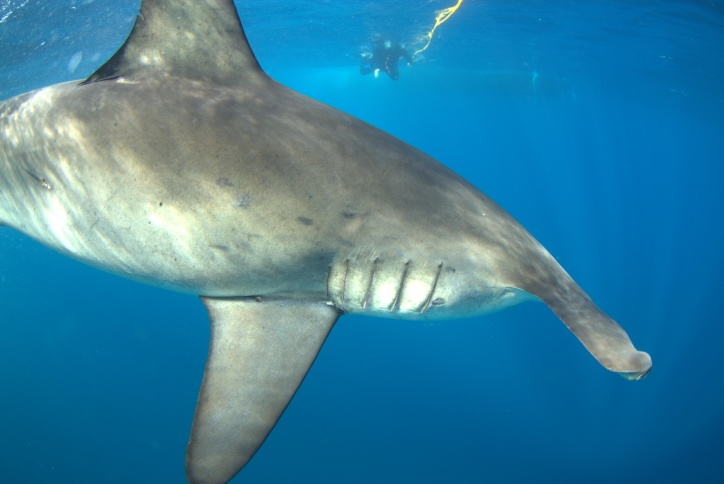Hammer: (5, 1, 665, 483)
